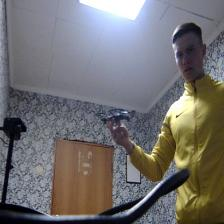drone: (97, 100, 137, 126)
